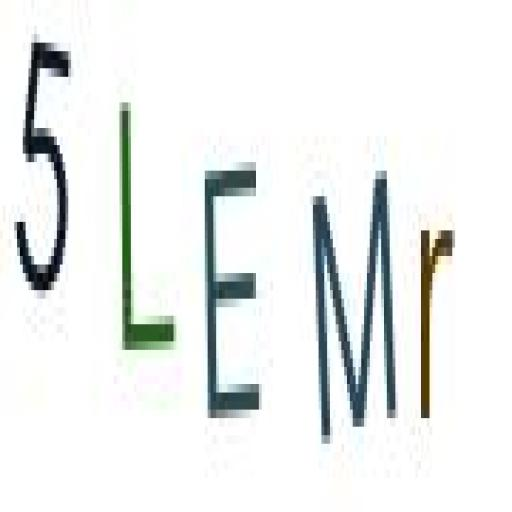5: (12, 17, 77, 319)
E: (198, 144, 268, 440)
L: (111, 79, 182, 385)
M: (306, 165, 403, 444)
r: (414, 200, 459, 444)
